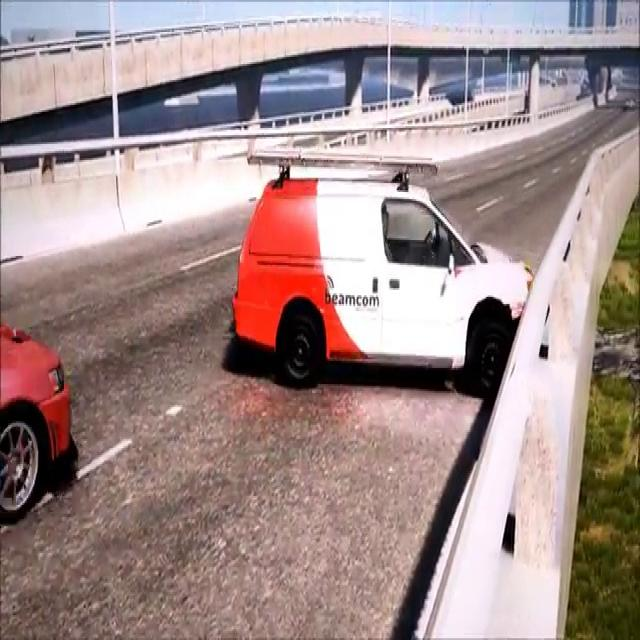moderate: (224, 128, 549, 410)
